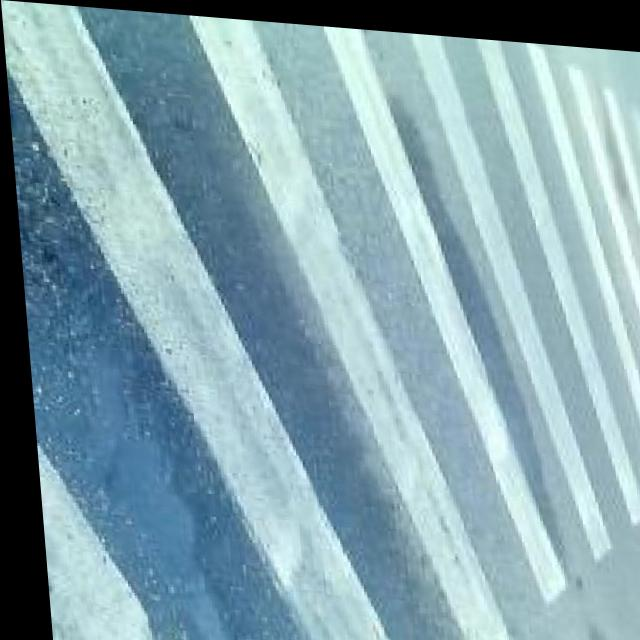zebra: (2, 28, 640, 640)
